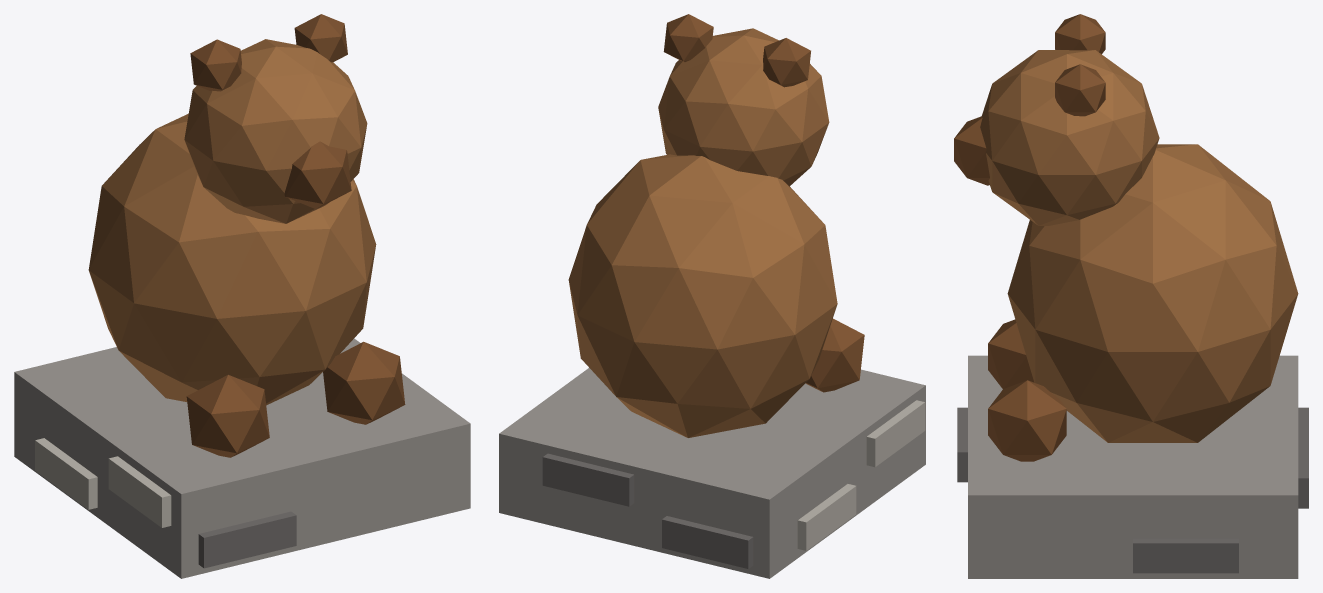
The model's file is carving_3.glb.
The picture shows the model from 3 angles, left to right: view 1: azimuth 30°, elevation 25°; view 2: azimuth 150°, elevation 25°; view 3: azimuth 270°, elevation 25°; orthographic projection. The views are drawn at different scales.
Parts seen in each view (by area): view 1: footing, body, head, plank_dark, stone_light, stone_dark; view 2: body, footing, head, plank_dark, stone_dark, stone_light; view 3: body, footing, head, plank_dark, stone_dark.
Part boxes in pixels (<box>): footing: <box>14,338,470,578</box>; body: <box>88,113,376,405</box>; head: <box>184,39,367,223</box>; plank_dark: <box>186,14,405,457</box>; stone_light: <box>35,438,171,527</box>; stone_dark: <box>198,511,296,568</box>; body: <box>568,154,837,437</box>; footing: <box>499,368,925,578</box>; head: <box>658,28,829,186</box>; plank_dark: <box>663,14,864,392</box>; stone_dark: <box>542,453,753,568</box>; stone_light: <box>797,400,925,550</box>; body: <box>1007,144,1298,442</box>; footing: <box>968,355,1298,578</box>; head: <box>980,50,1159,225</box>; plank_dark: <box>954,14,1105,461</box>; stone_dark: <box>957,407,1308,573</box>.
Bounding box in the file's own units: 0.532 × 0.785 × 0.537.
